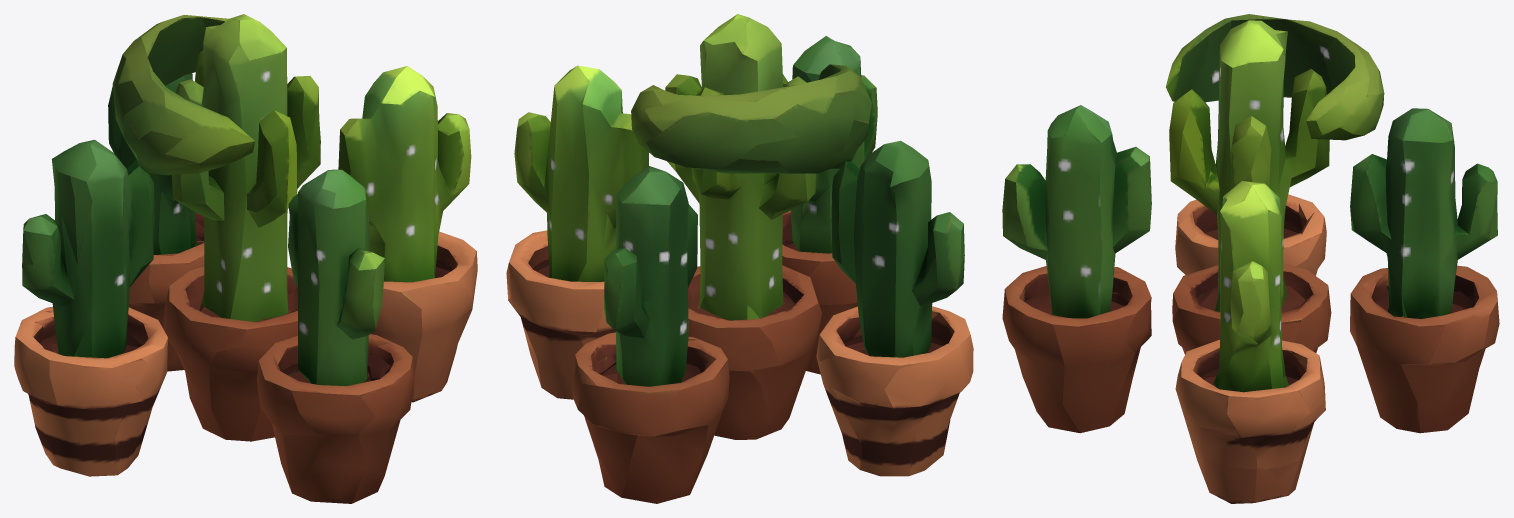
File: cactus-trio.glb
The picture shows the model from 3 angles, left to right: view 1: azimuth 30°, elevation 25°; view 2: azimuth 150°, elevation 25°; view 3: azimuth 270°, elevation 25°; orthographic projection. The views are drawn at different scales.
Visible parts, largest first — view 1: geometry_0; view 2: geometry_0; view 3: geometry_0.
Boxes of the visible parts, left/top/right/bottom form: geometry_0: left=14, top=14, right=477, bottom=503; geometry_0: left=506, top=14, right=973, bottom=503; geometry_0: left=1002, top=14, right=1499, bottom=503.
Size of the model in its own units: 0.9986 by 0.8705 by 1.
1 material, 1 textured.
